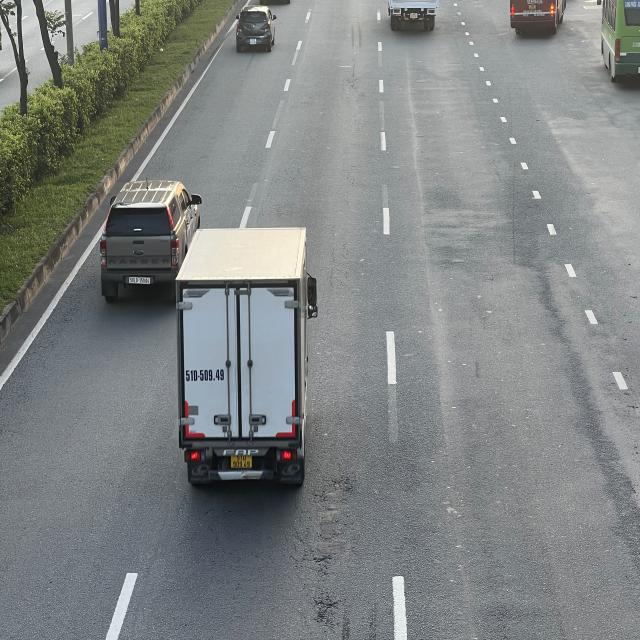car: (100, 178, 202, 300), (236, 3, 278, 50)
truck: (178, 223, 320, 489)
